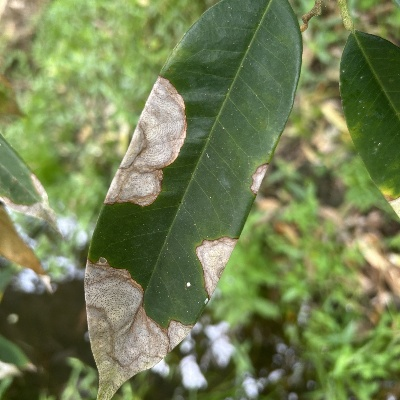Leaf_Colletotrichum: (81, 0, 304, 399)
